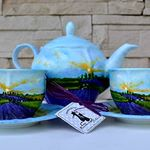cups: (1, 68, 50, 120), (105, 66, 150, 118)
